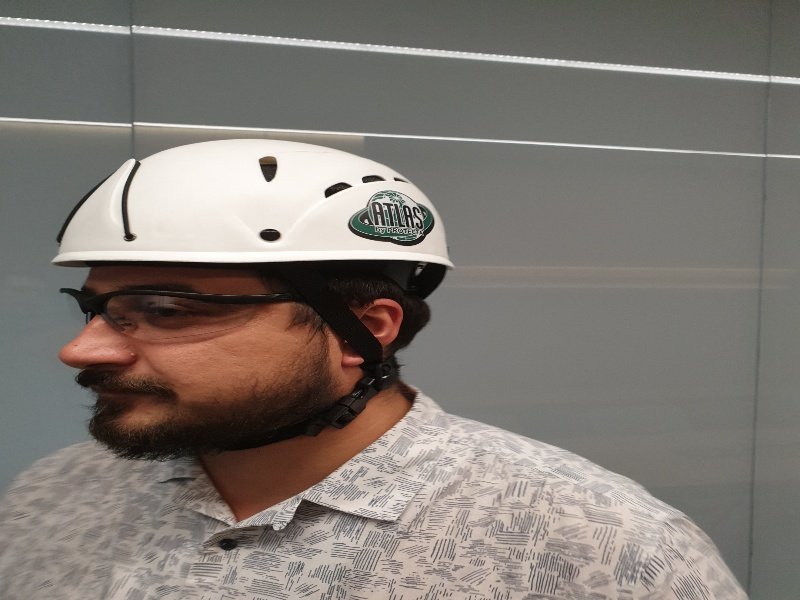Baret: (57, 139, 449, 265)
Gozluk: (63, 286, 302, 331)
